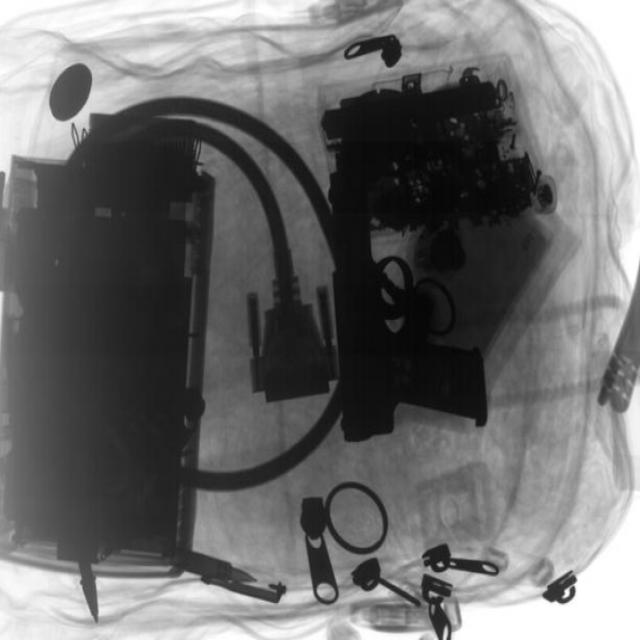GUN: (326, 186, 498, 447)
